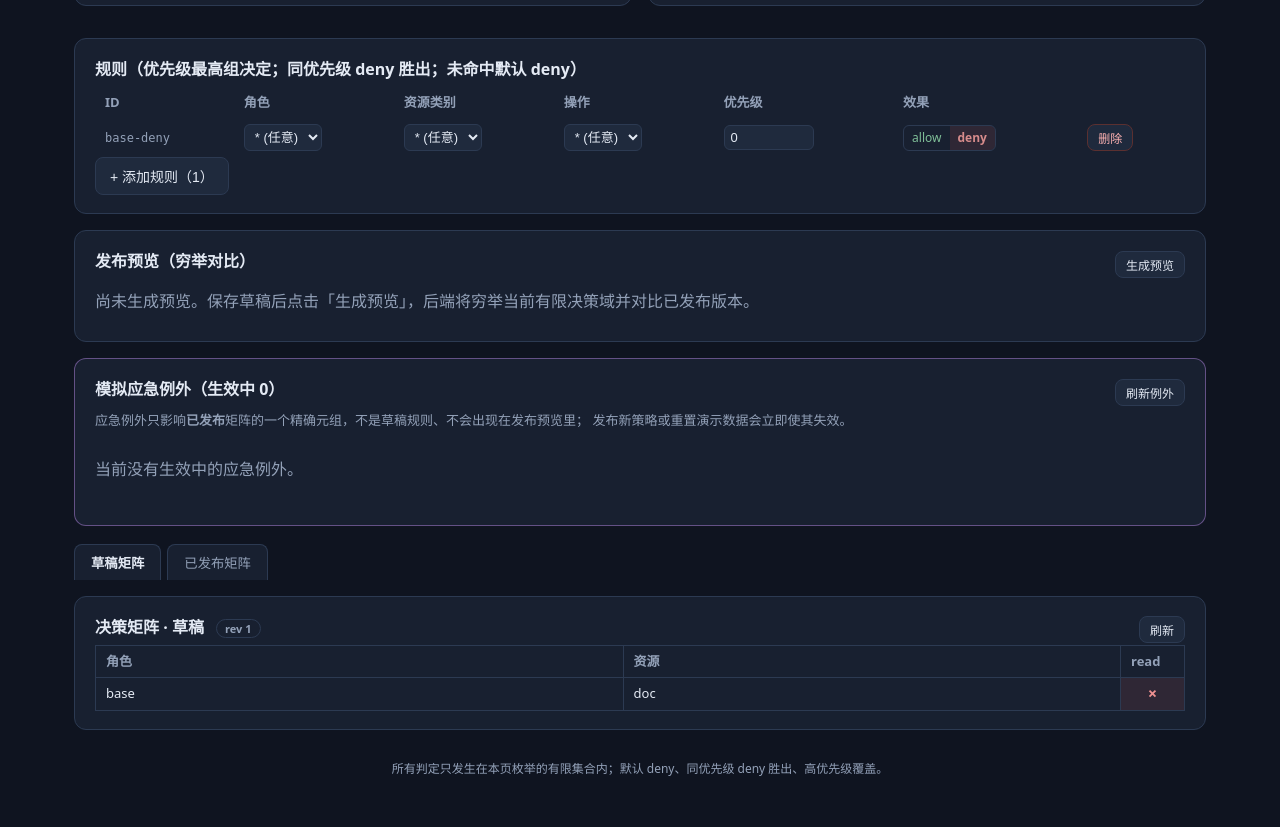
Scenario: App — exception panel + matrix coherence › a create carrying an old publishedRevision is rejected on publish race (interleaved)
This screenshot has width=1280, height=827.
(page scrolled)
Click the button with class "tab" showing "已发布矩阵" at (218, 562), box [167, 544, 268, 580]
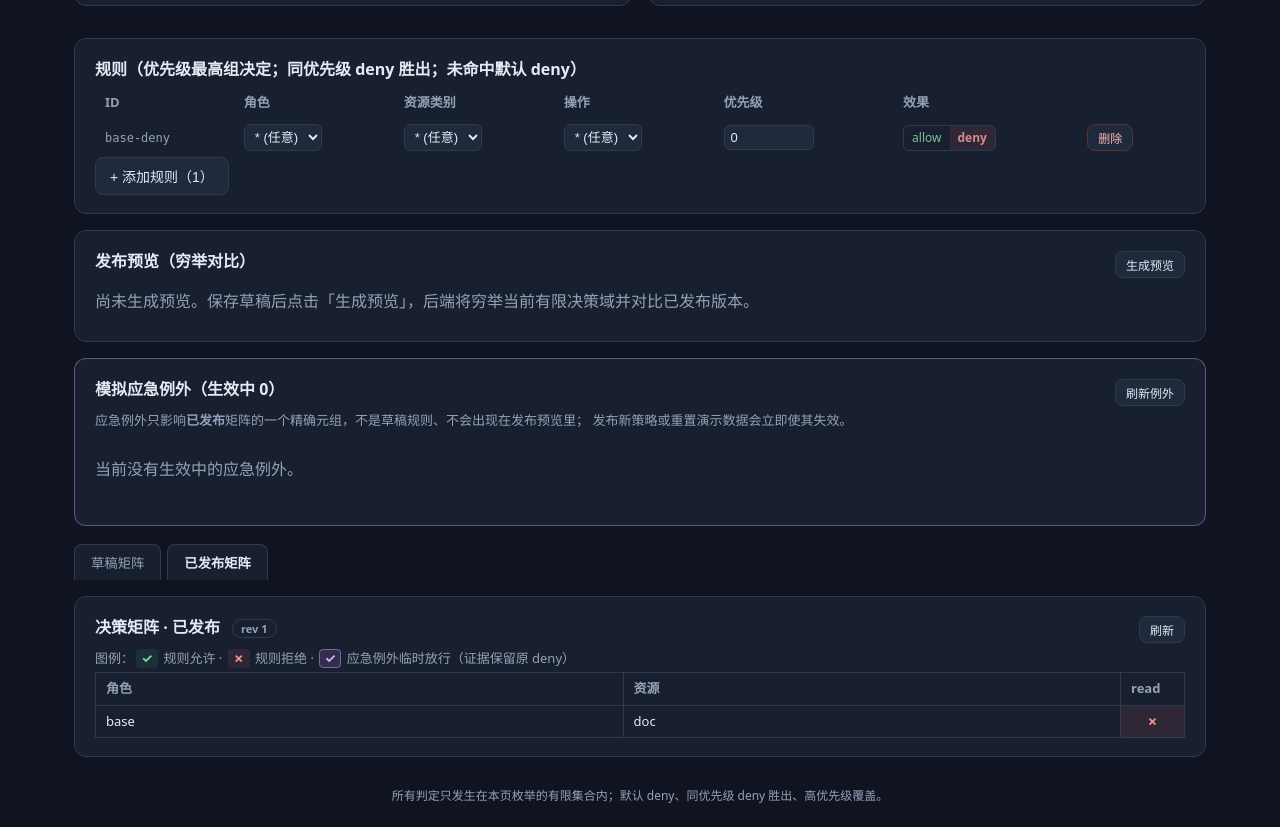
Click the cell with class "cell" at (1152, 721), box [1120, 705, 1184, 738]
(page scrolled)
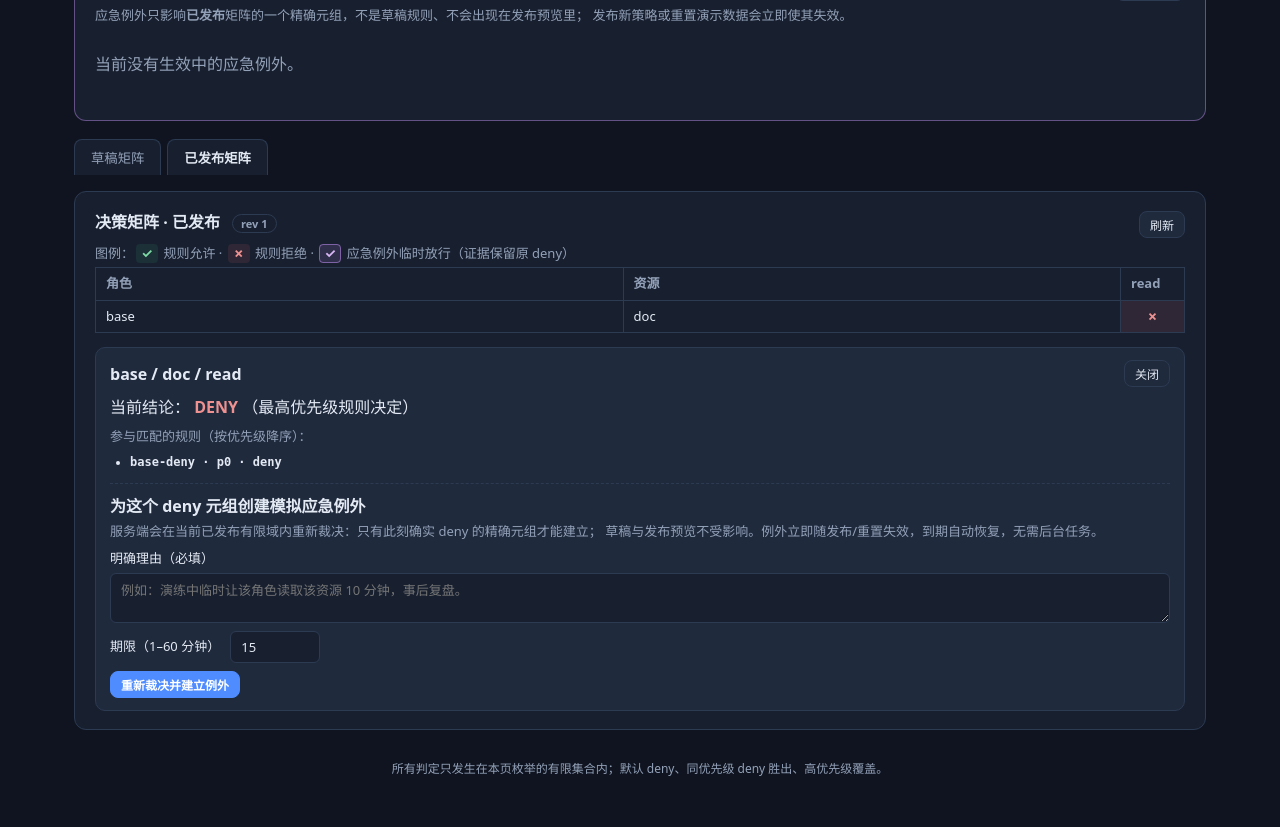
Type "late request" into the text box labelled "明确理由（必填）" at (640, 598), box [110, 572, 1170, 622]
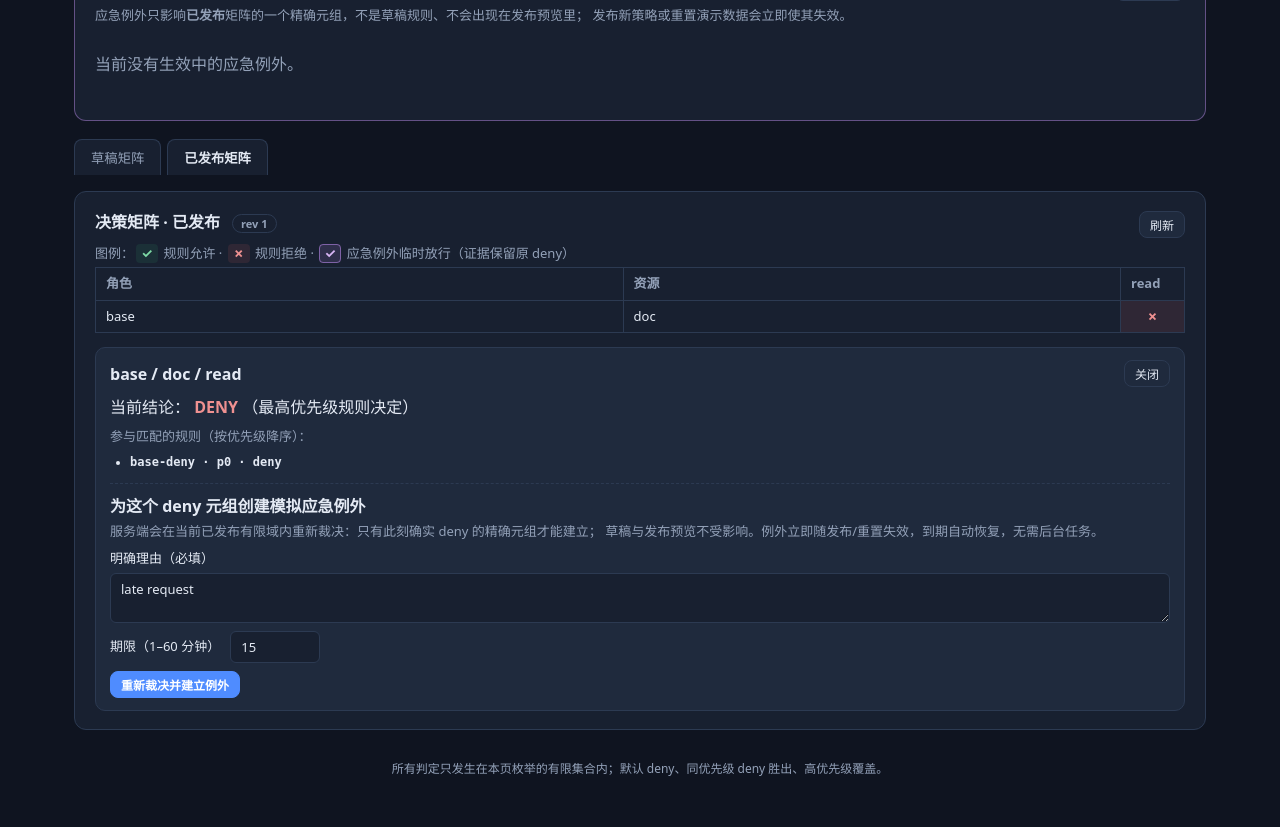
Replace the text in the number field labelled "期限（1–60 分钟）" with "5" at (275, 646), box [230, 630, 320, 662]
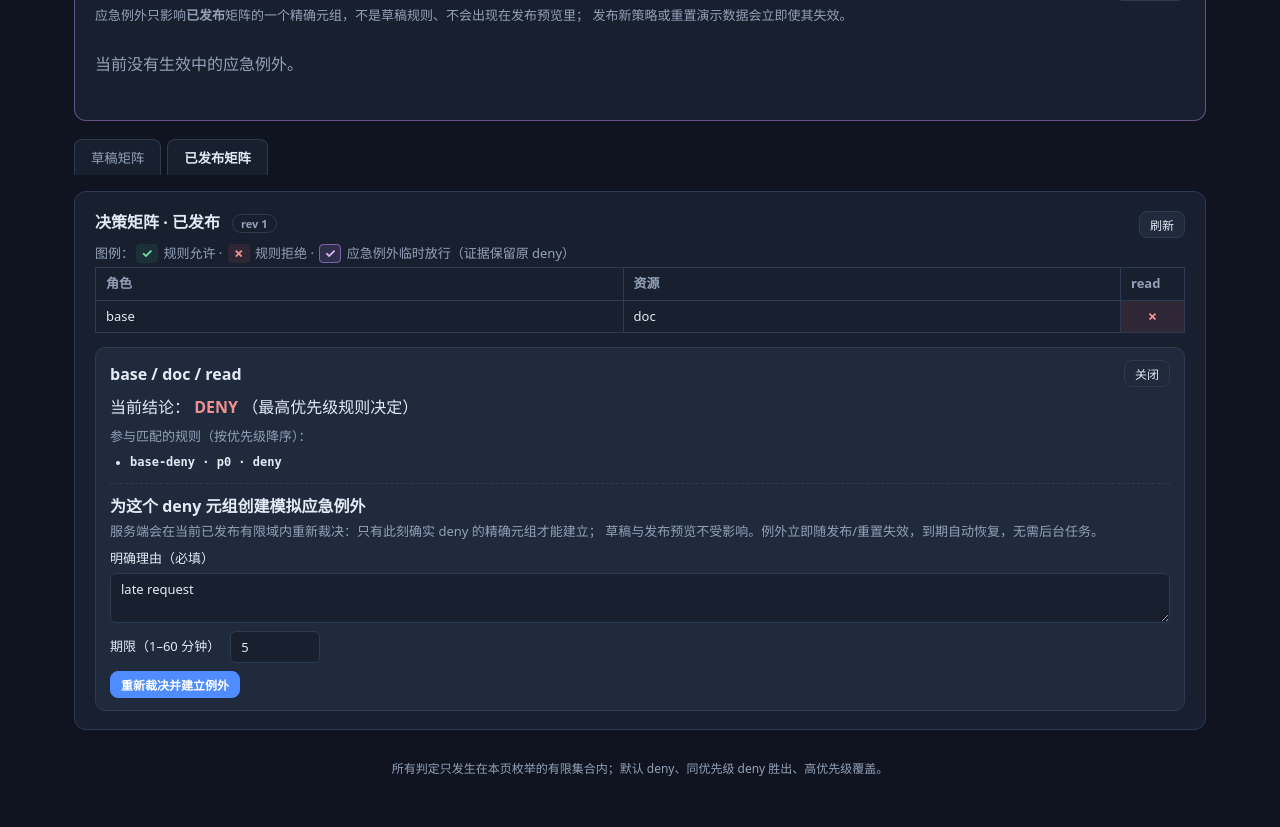
Click the button "重新裁决并建立例外" at (175, 684), box [110, 670, 240, 698]
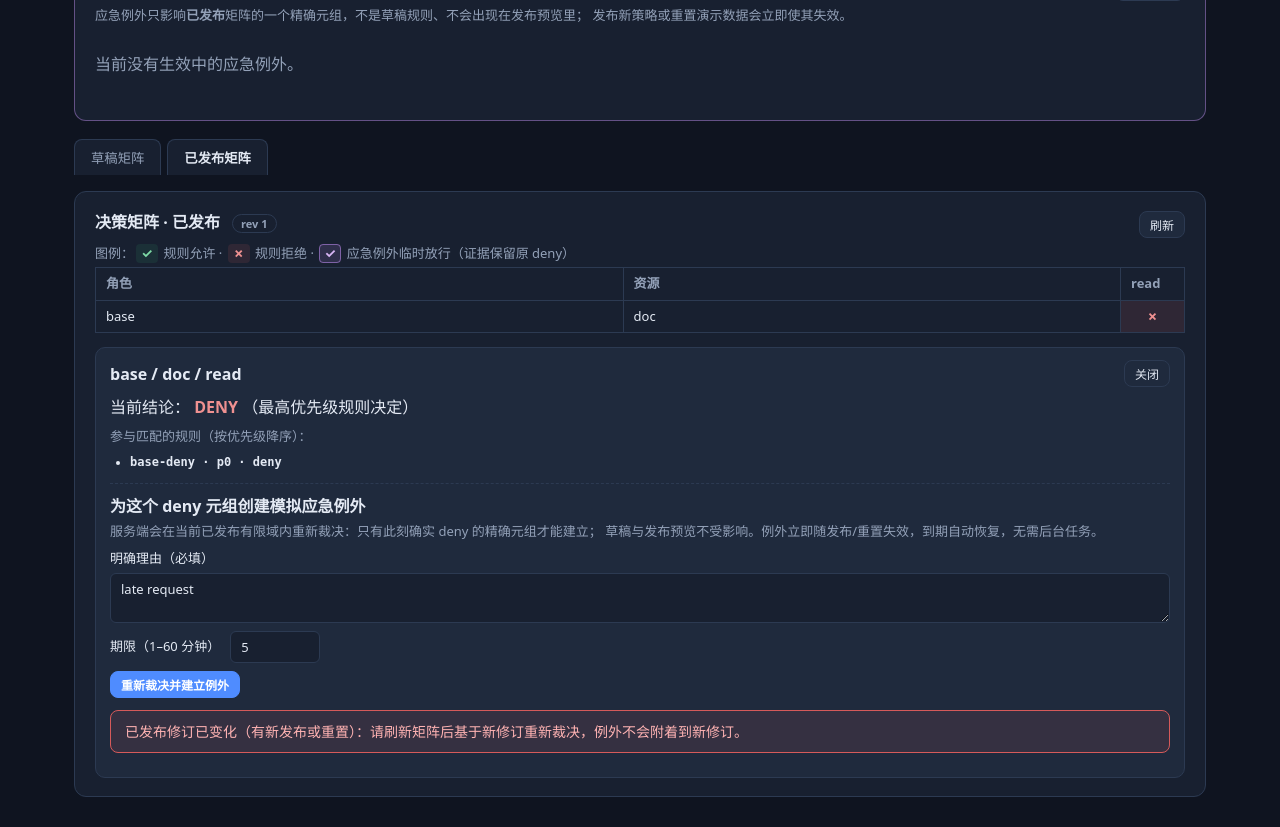
Result: the text with class "banner-err" shows "修订" at [110, 710, 1170, 752]
